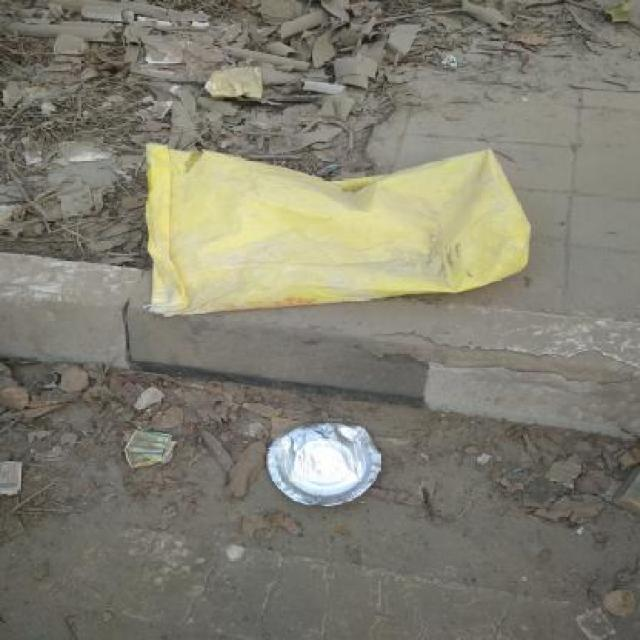garbage: (134, 122, 570, 350), (196, 405, 416, 532), (42, 388, 196, 492), (183, 56, 389, 122), (402, 43, 513, 104)
